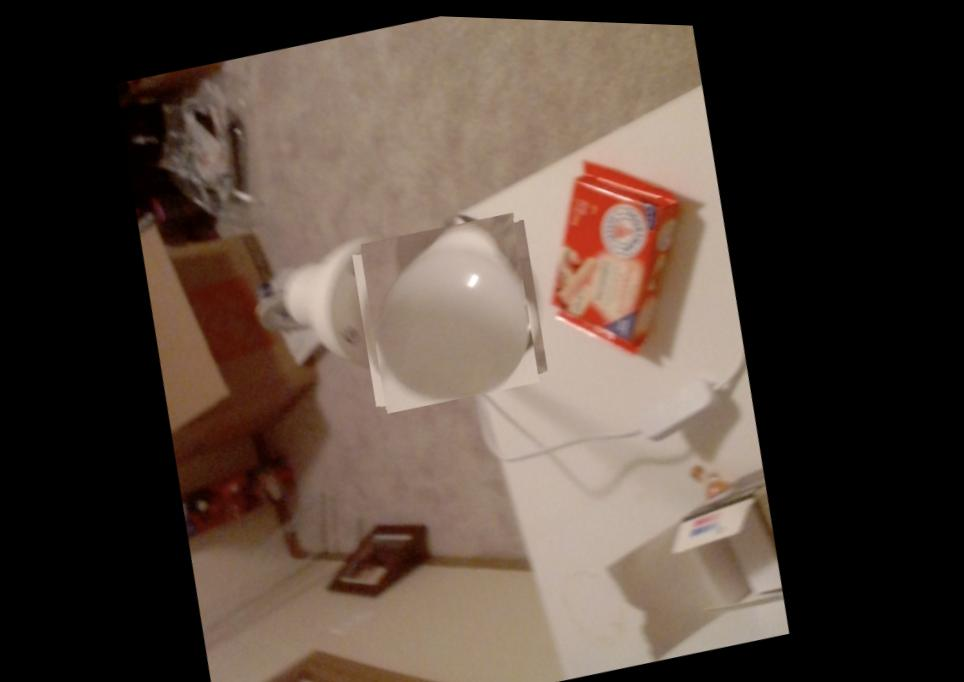Fan: (348, 207, 561, 412)
